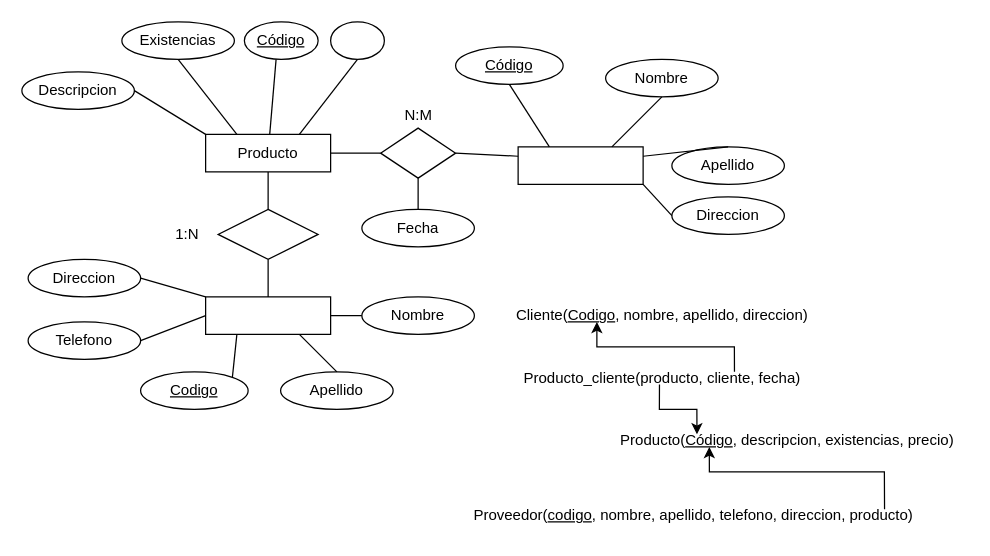
The diagram is 990 pixels wide and 556 high, and some of its shapes have lost their labels. Each missing label, with the box of its shape:
Cliente: (517, 146, 643, 184)
entregado: (217, 208, 318, 259)
Precio: (329, 21, 384, 59)
Proveedor: (204, 296, 331, 334)
Vende: (379, 127, 456, 178)
